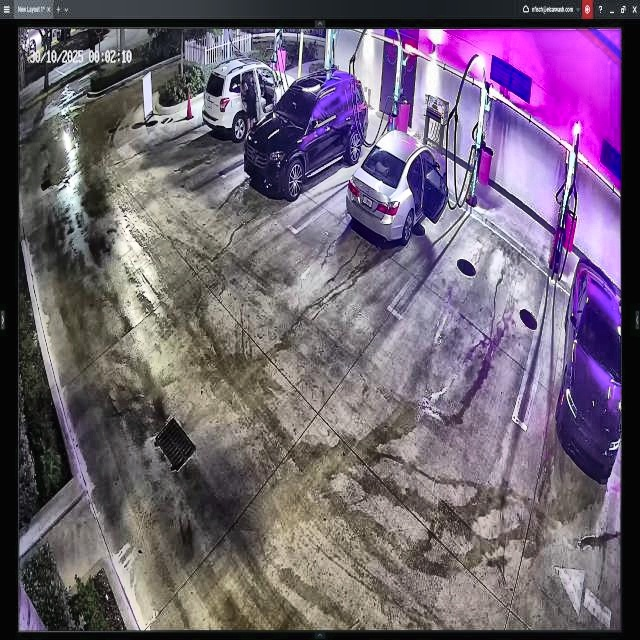Car: (248, 70, 368, 198), (346, 129, 448, 249)
